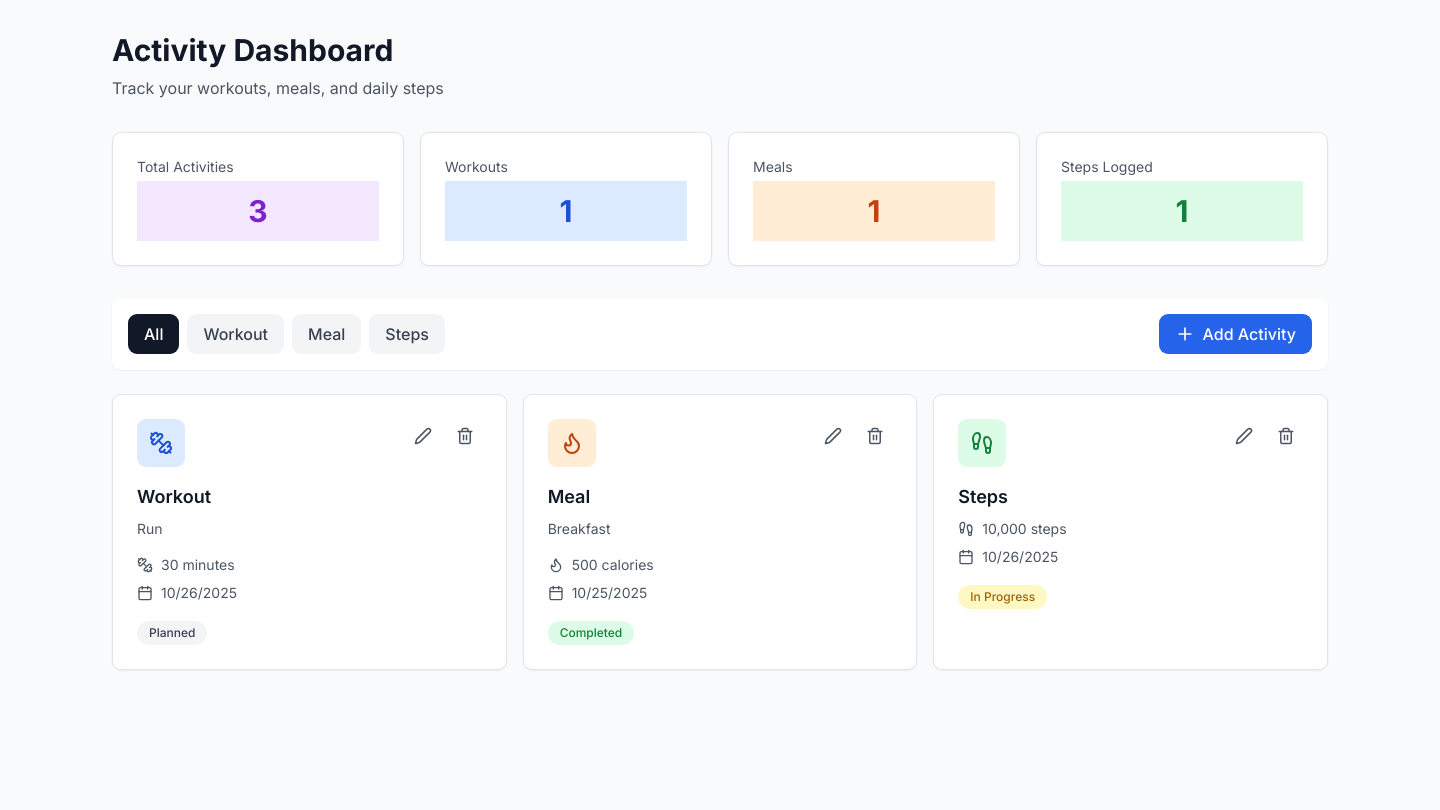
Test case: Dashboard component › filters activities by type
The image size is (1440, 810).
Click "Meal" filter
Click the button "Meal" at [327, 334], box 292,314 -> 361,354
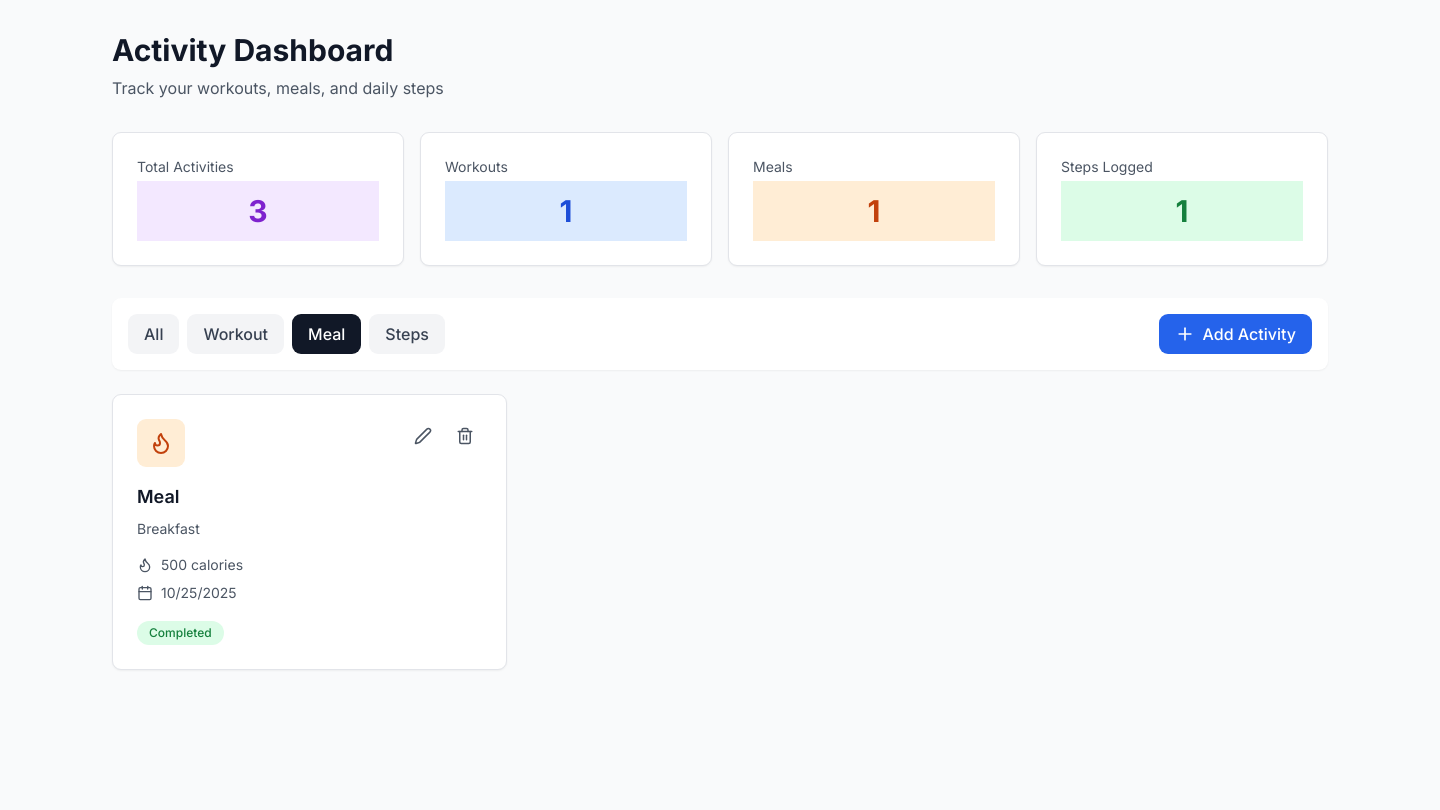
expect the text "Breakfast" is shown: met, box 137,520 -> 200,537
expect the text "Run" is gone: met
